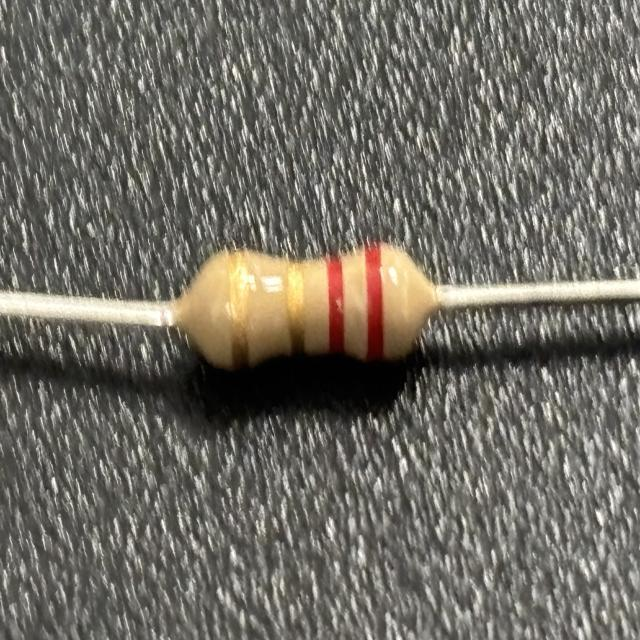resistor: (189, 238, 433, 380)
